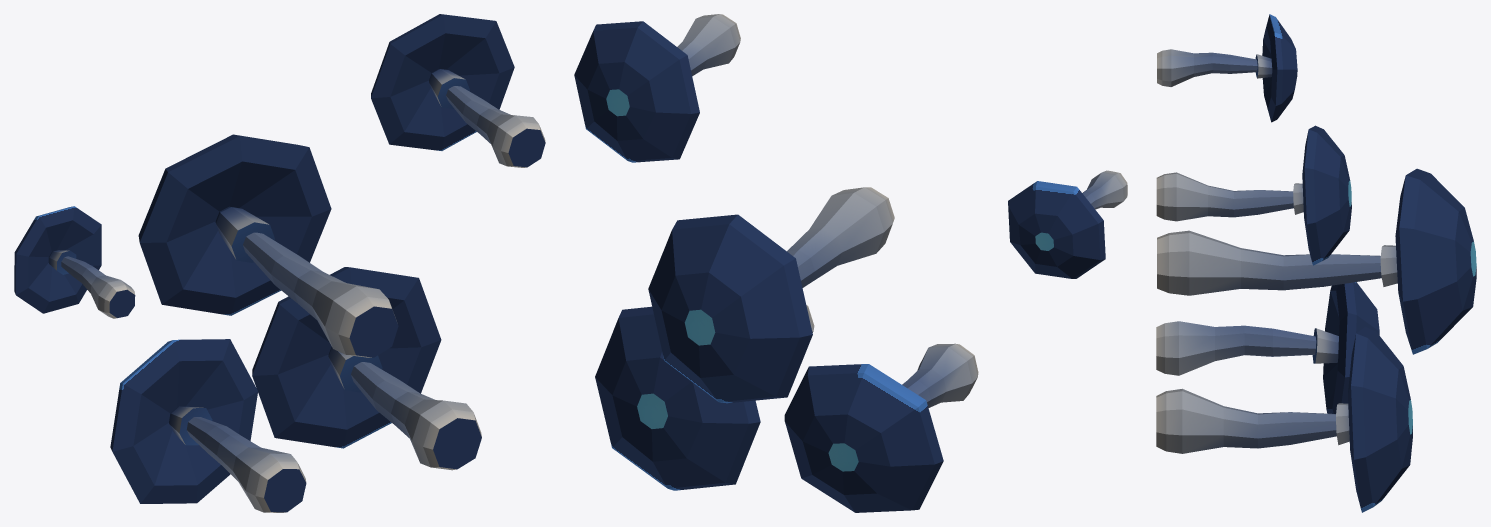
The model's file is Grupo de Hongos-Suelo.fbx.
3 renders of one model, left to right at view 1: azimuth 30°, elevation 25°; view 2: azimuth 150°, elevation 25°; view 3: azimuth 270°, elevation 25°, orthographic. The views are drawn at different scales.
Parts seen in each view (by area): view 1: Hongo-suelo.003; view 2: Hongo-suelo.003; view 3: Hongo-suelo.003.
Part boxes in pixels (x1,y1,x2,y2): Hongo-suelo.003: [14, 14, 545, 512]; Hongo-suelo.003: [574, 14, 1127, 512]; Hongo-suelo.003: [1156, 14, 1476, 512].
Size of the model in its own units: 81.31 by 65.87 by 47.04.
